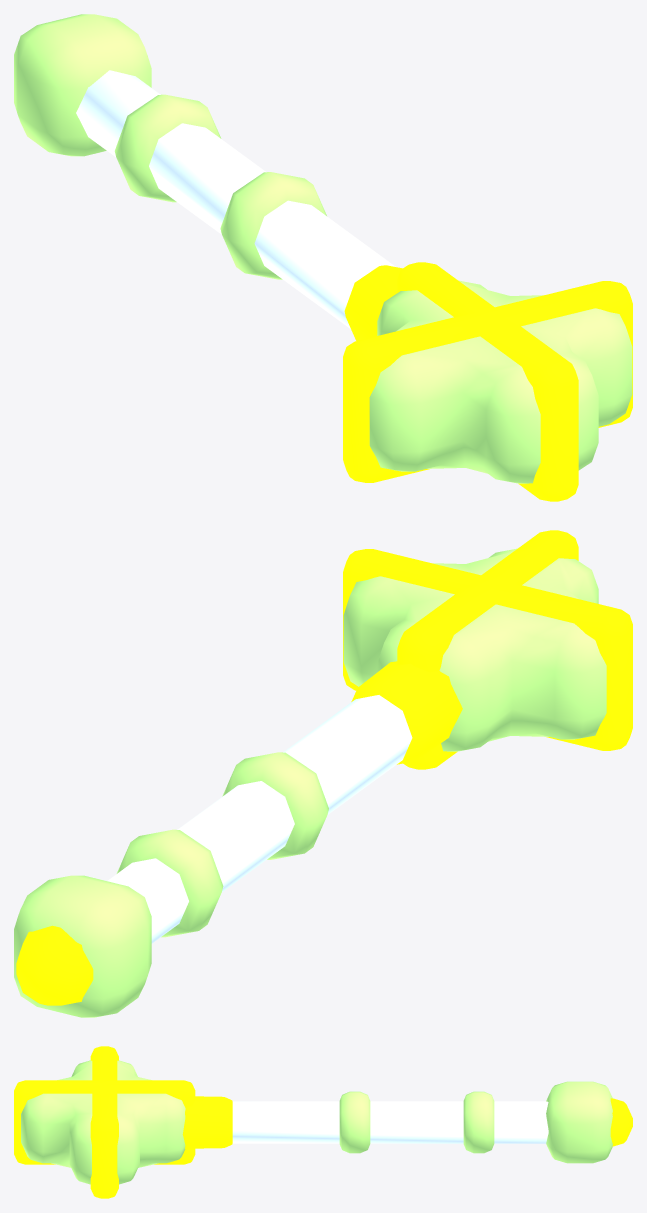
The model's file is Green-Lv3-Healer-WP.fbx.
3 views of the same model, one above another, from view 1: azimuth 30°, elevation 25°; view 2: azimuth 150°, elevation 25°; view 3: azimuth 270°, elevation 25° (orthographic). The views are drawn at different scales.
Parts seen in each view (by area): view 1: Green-Lv3-Healer-WP; view 2: Green-Lv3-Healer-WP; view 3: Green-Lv3-Healer-WP.
Boxes of the visible parts, x1,y1,x2,y2 form: Green-Lv3-Healer-WP: (14, 14, 632, 501); Green-Lv3-Healer-WP: (14, 530, 632, 1017); Green-Lv3-Healer-WP: (14, 1046, 632, 1198).
Bounding box in the file's own units: 0.5178 × 0.2427 × 1.69.
